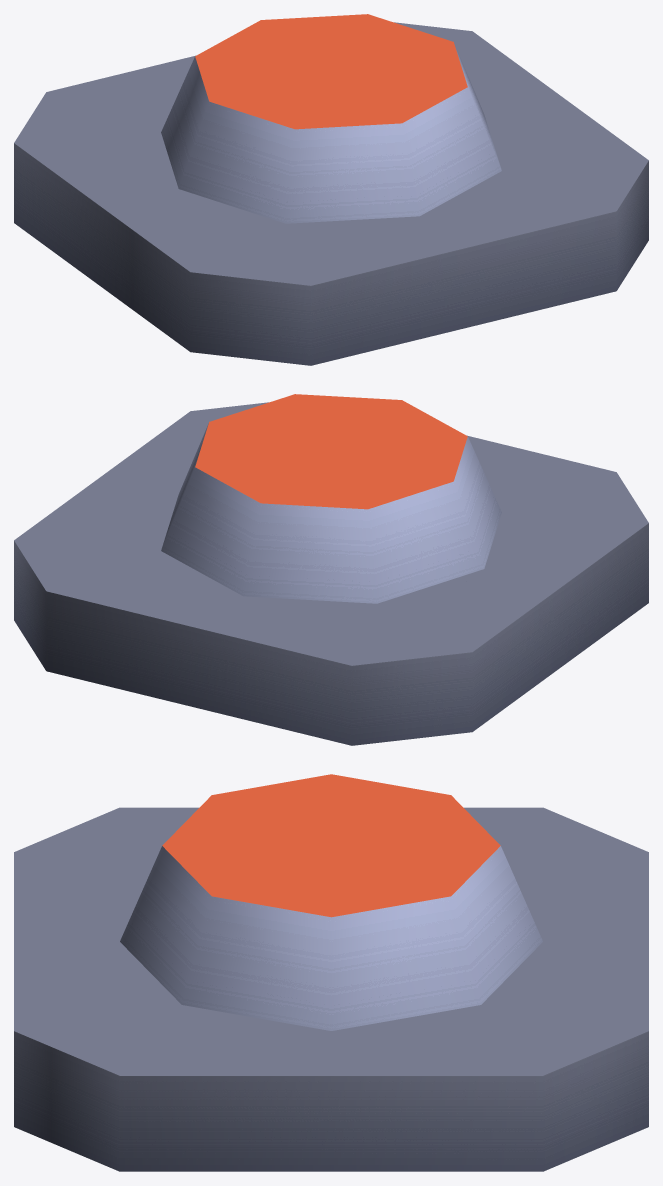
File: button-floor-round-small.glb
3 views of the same model, one above another, from view 1: azimuth 30°, elevation 25°; view 2: azimuth 150°, elevation 25°; view 3: azimuth 270°, elevation 25° (orthographic). The views are drawn at different scales.
Parts seen in each view (by area): view 1: button-floor-round-small-col, button-col.001; view 2: button-floor-round-small-col, button-col.001; view 3: button-floor-round-small-col, button-col.001.
Part boxes in pixels (box(x1,y1,x2,y2)): button-floor-round-small-col: box(14, 22, 648, 365); button-col.001: box(161, 14, 501, 223); button-floor-round-small-col: box(14, 402, 648, 745); button-col.001: box(161, 394, 501, 603); button-floor-round-small-col: box(14, 807, 648, 1171); button-col.001: box(120, 774, 542, 1030).
Bounding box in the file's own units: 0.3 × 0.1 × 0.3.
1 material, 1 textured.
